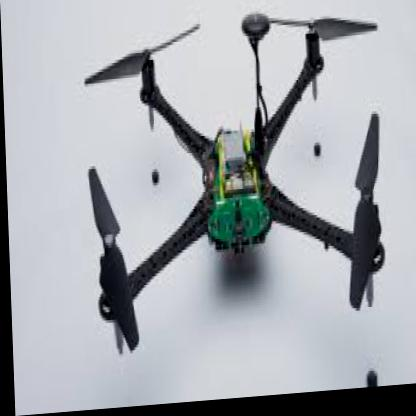UAS: (82, 11, 387, 360)
